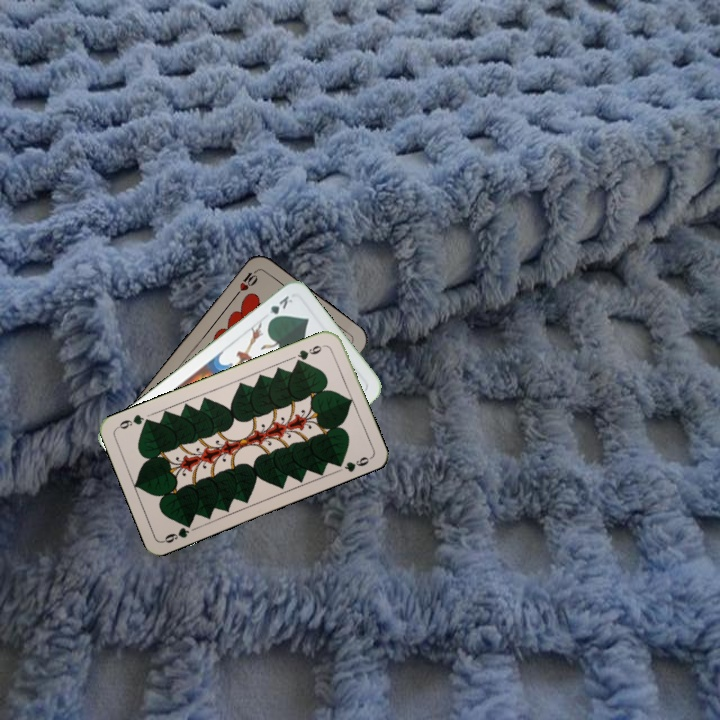G9: (159, 517, 195, 546), (292, 341, 328, 366)
GK: (264, 291, 295, 325)
H10: (231, 265, 261, 299)
